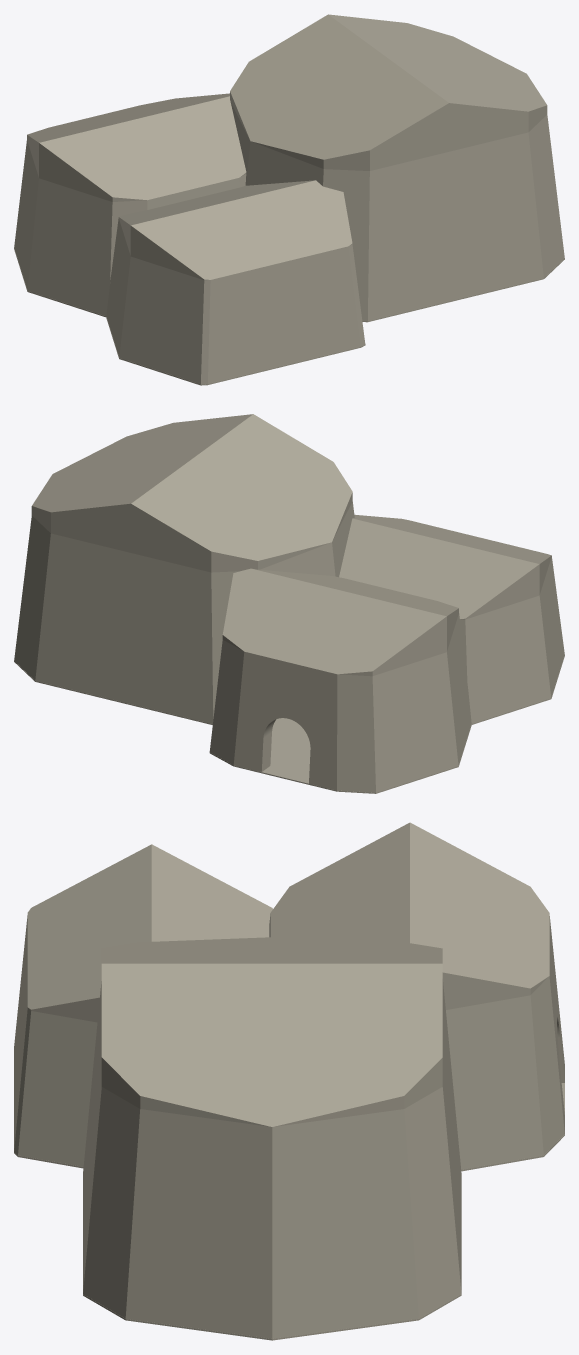
3 views of the same model, one above another, from view 1: azimuth 30°, elevation 25°; view 2: azimuth 150°, elevation 25°; view 3: azimuth 270°, elevation 25° (orthographic). The views are drawn at different scales.
Parts seen in each view (by area): view 1: body_stone, roof_stone; view 2: body_stone, roof_stone; view 3: body_stone, roof_stone.
Part boxes in pixels (x1=…): body_stone: x1=14, y1=102, x2=564, y2=385; roof_stone: x1=27, y1=14, x2=547, y2=280; body_stone: x1=14, y1=501, x2=564, y2=793; roof_stone: x1=31, y1=414, x2=551, y2=676; body_stone: x1=14, y1=913, x2=564, y2=1340; roof_stone: x1=27, y1=822, x2=549, y2=1126.
Size of what is drawn, in the model's own units: 22 by 8.7 by 16.
